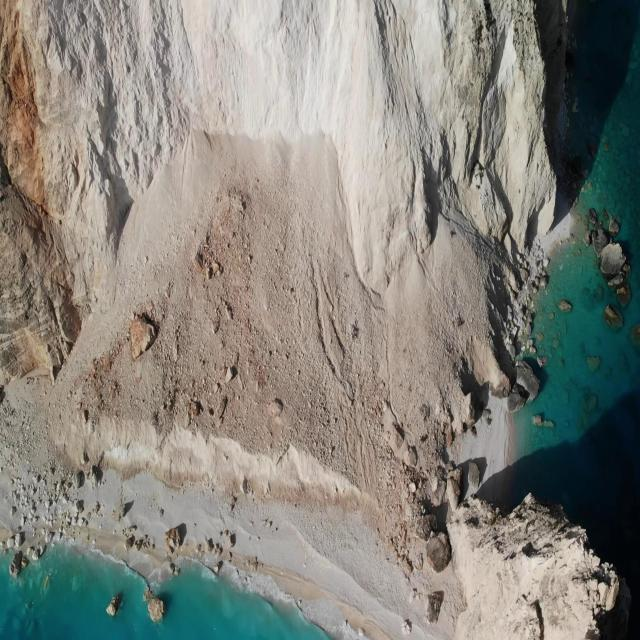kayak: (106, 598, 118, 619)
